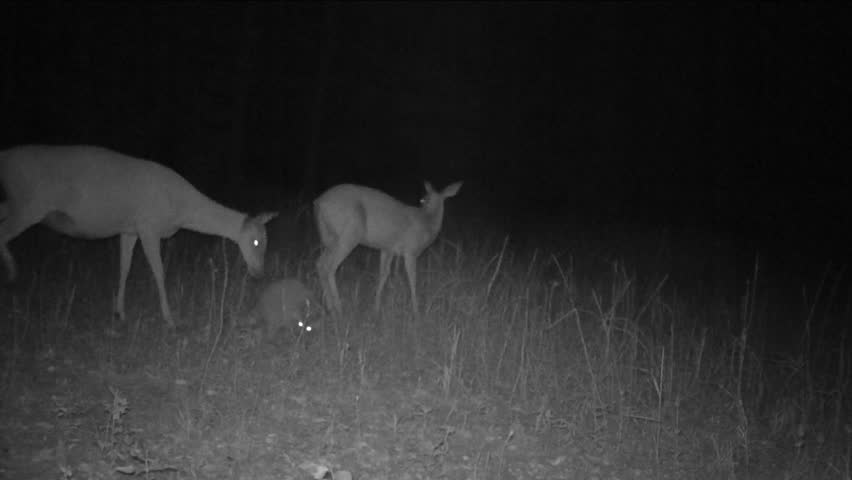deer: (5, 134, 276, 310), (318, 162, 470, 312)
raccoon: (240, 284, 340, 339)
